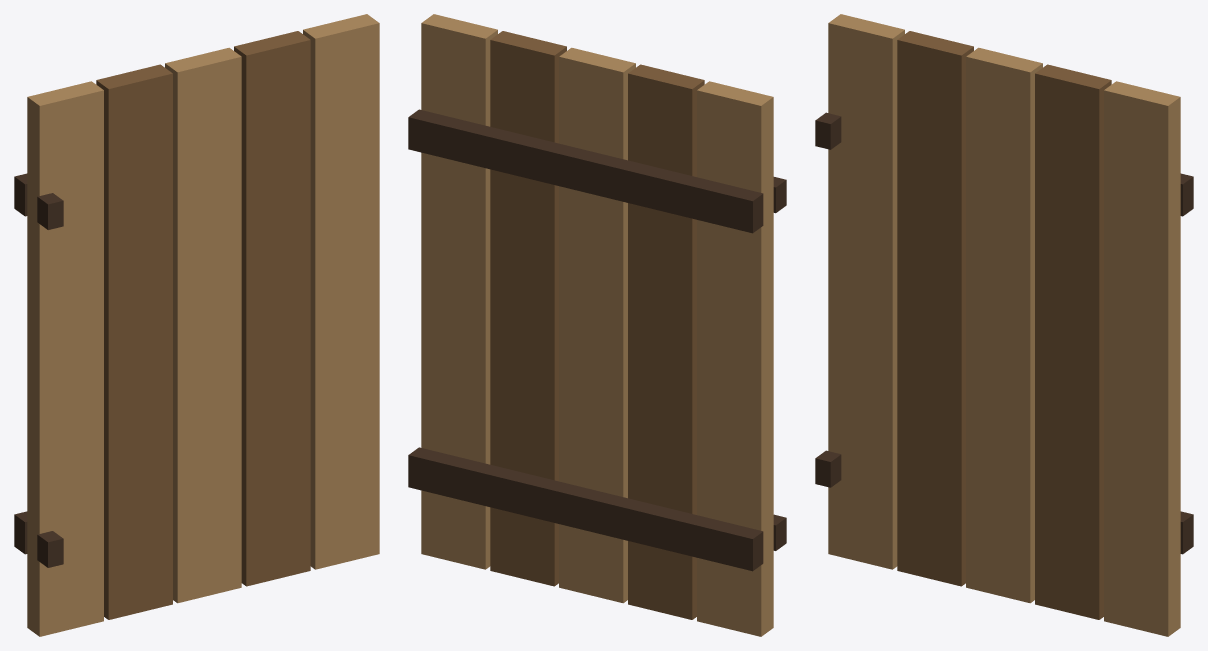
File: TW_WOOD_GATE_LEAF_A_LOD0.glb
3 views of the same model, side by side, from view 1: azimuth 30°, elevation 25°; view 2: azimuth 150°, elevation 25°; view 3: azimuth 330°, elevation 25° (orthographic).
Parts seen in each view (by area): view 1: TW_WOOD_GATE_LEAF_A_LOD0; view 2: TW_WOOD_GATE_LEAF_A_LOD0; view 3: TW_WOOD_GATE_LEAF_A_LOD0.
Part boxes in pixels (<box>): TW_WOOD_GATE_LEAF_A_LOD0: <box>14,14,379,636</box>; TW_WOOD_GATE_LEAF_A_LOD0: <box>408,14,786,636</box>; TW_WOOD_GATE_LEAF_A_LOD0: <box>815,14,1193,636</box>.
Bounding box in the file's own units: 1.12 × 1.65 × 0.19.
Materials: 1 (1 with a texture image).
